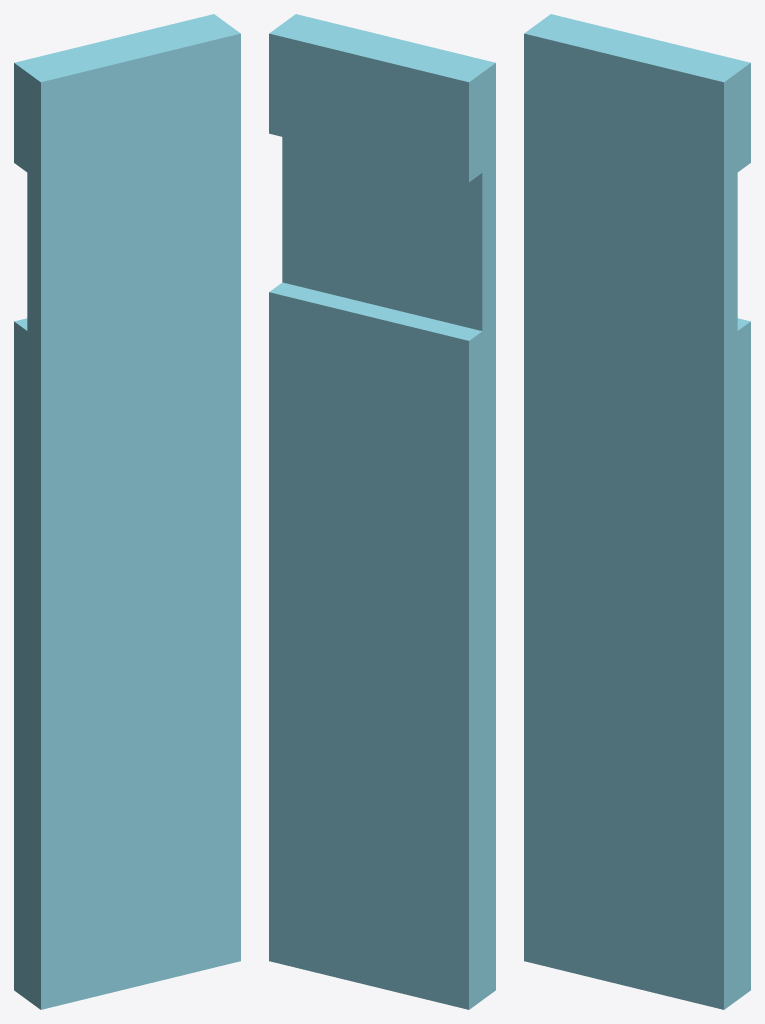
Rendered from MurCote5.fbx.
3 views of the same model, side by side, from view 1: azimuth 30°, elevation 25°; view 2: azimuth 150°, elevation 25°; view 3: azimuth 330°, elevation 25° (orthographic).
Visible parts, largest first — view 1: Cube.036; view 2: Cube.036; view 3: Cube.036.
Part boxes in pixels (box(x1,y1,x2,y2)): Cube.036: box(14, 14, 240, 1009); Cube.036: box(269, 14, 495, 1009); Cube.036: box(524, 14, 750, 1009).
Bounding box in the file's own units: 290 × 1285 × 67.09.
